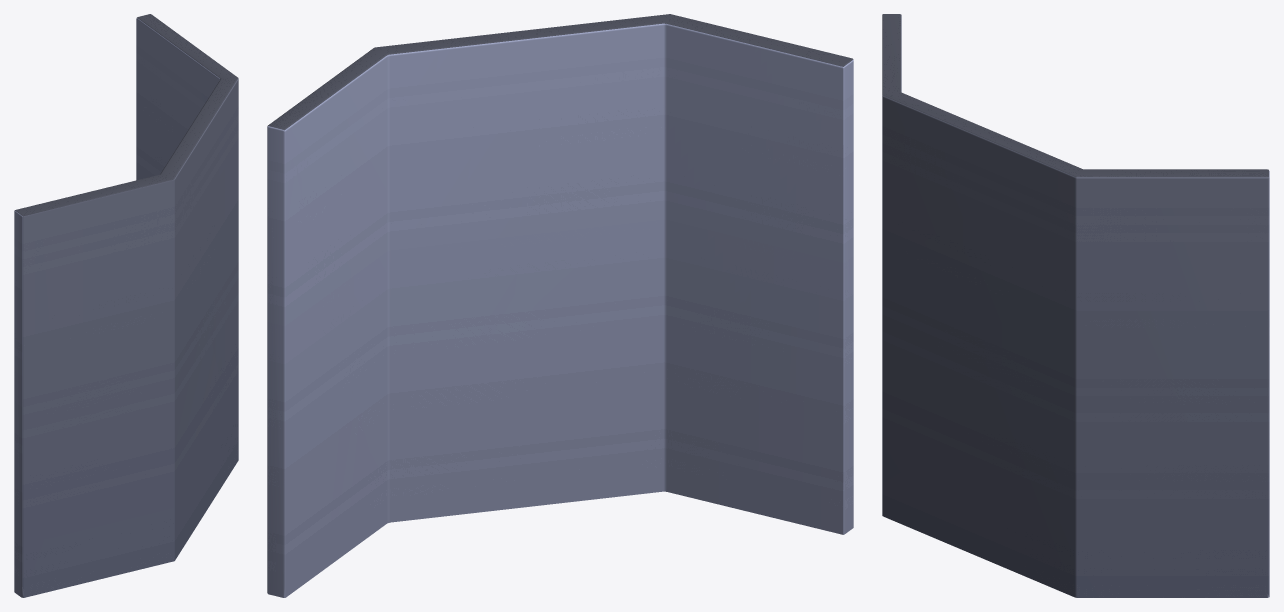
File: wall-corner-diagonal.glb
The picture shows the model from 3 angles, left to right: view 1: azimuth 30°, elevation 25°; view 2: azimuth 150°, elevation 25°; view 3: azimuth 270°, elevation 25°; orthographic projection. The views are drawn at different scales.
Parts seen in each view (by area): view 1: wall-corner-diagonal; view 2: wall-corner-diagonal; view 3: wall-corner-diagonal.
Boxes of the visible parts, left/top/right/bottom form: wall-corner-diagonal: left=14, top=14, right=238, bottom=597; wall-corner-diagonal: left=267, top=14, right=853, bottom=597; wall-corner-diagonal: left=882, top=14, right=1269, bottom=597.
Size of the model in its own units: 2 by 2.4 by 2.
Materials: 1 (1 with a texture image).
